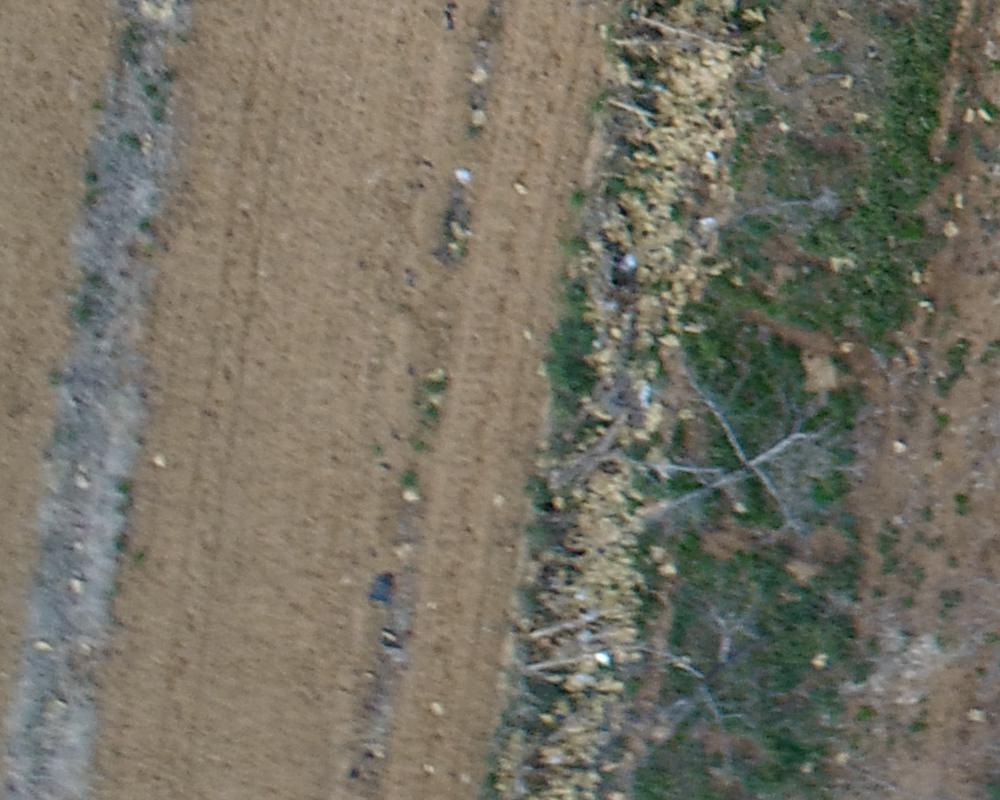apple: (650, 363, 843, 561), (602, 627, 837, 775)
